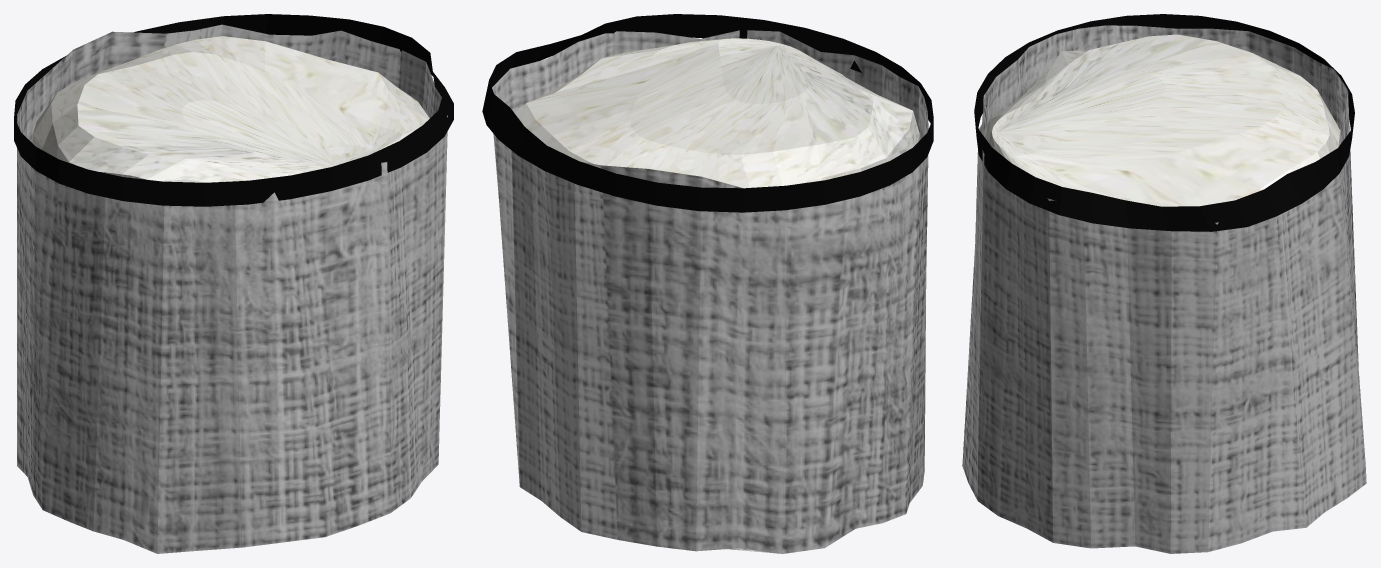
The model's file is Beras.fbx.
The picture shows the model from 3 angles, left to right: view 1: azimuth 30°, elevation 25°; view 2: azimuth 150°, elevation 25°; view 3: azimuth 270°, elevation 25°; orthographic projection.
Parts seen in each view (by area): view 1: Cylinder, Sphere, Cylinder.001; view 2: Cylinder, Sphere, Cylinder.001; view 3: Cylinder, Sphere, Cylinder.001.
Part boxes in pixels (x1,y1,x2,y2): Cylinder: [17, 24, 447, 553]; Sphere: [32, 36, 444, 182]; Cylinder.001: [14, 14, 453, 206]; Cylinder: [492, 30, 928, 553]; Sphere: [514, 38, 919, 228]; Cylinder.001: [482, 14, 933, 212]; Cylinder: [962, 25, 1366, 553]; Sphere: [986, 34, 1340, 232]; Cylinder.001: [974, 14, 1354, 231].
Bounding box in the file's own units: 237 × 218 × 211.
